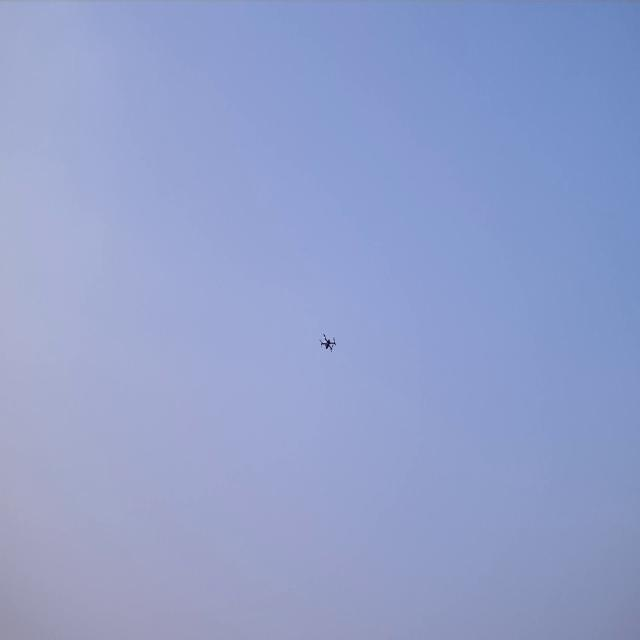UAV: (317, 329, 337, 354)
